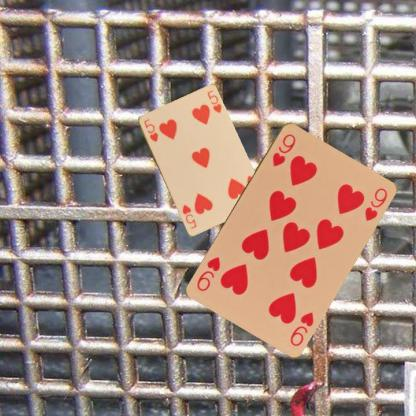5h: (141, 116, 159, 143)
9h: (269, 130, 297, 168), (287, 309, 315, 347)
